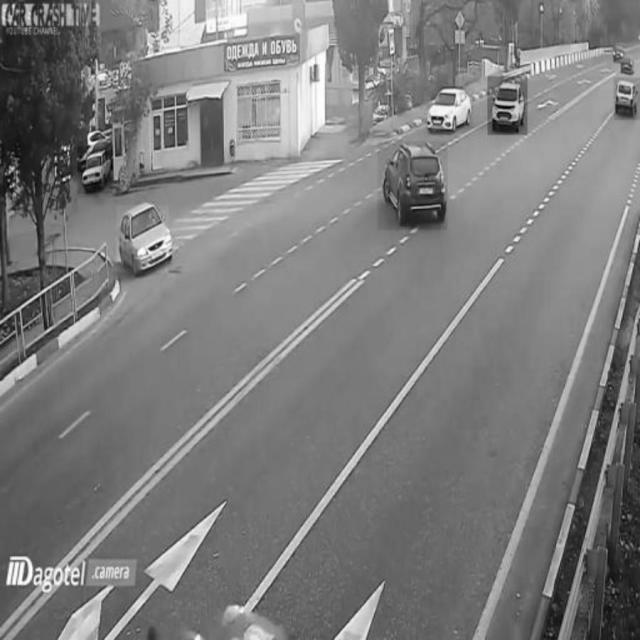vehicle: (378, 142, 448, 230), (116, 206, 168, 273), (488, 77, 528, 135), (427, 87, 474, 129), (78, 147, 113, 194), (614, 79, 640, 121)
